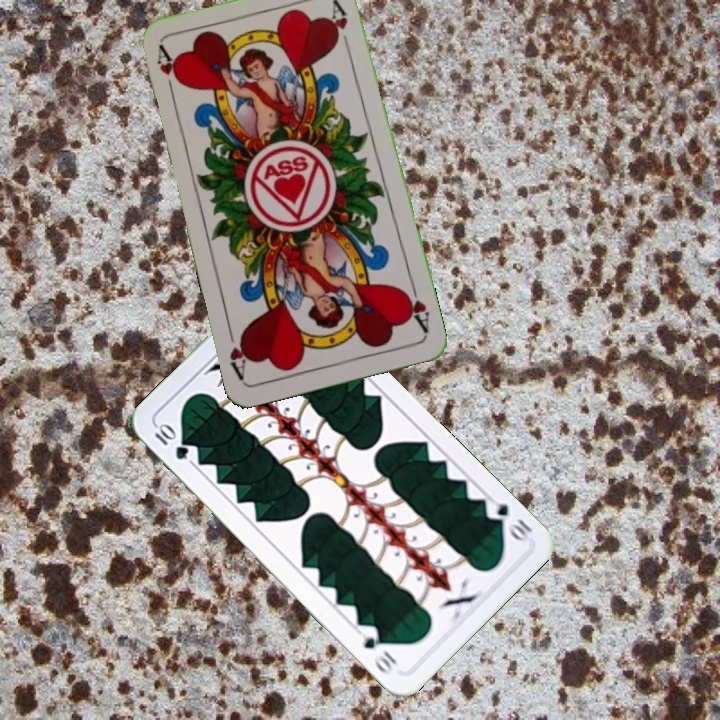G10: (481, 499, 536, 546), (150, 419, 192, 463)
HA: (399, 280, 433, 336), (153, 42, 185, 101)
